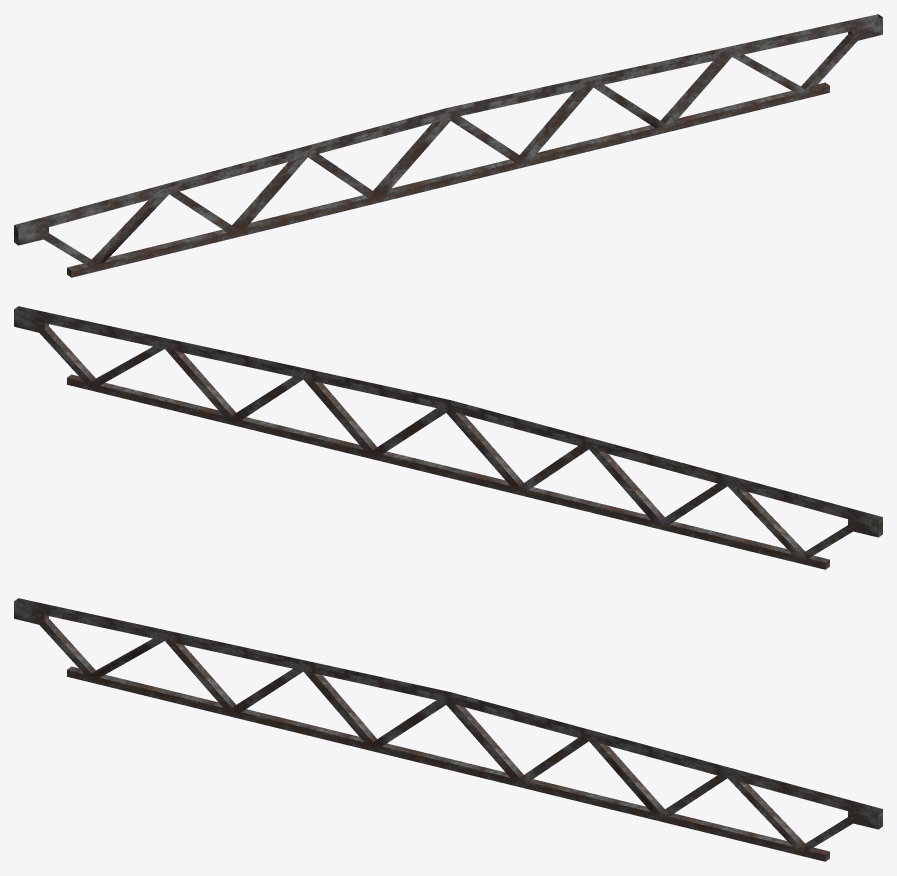
File: Factory1RoofBase02.FBX
The picture shows the model from 3 angles, top to bottom: view 1: azimuth 30°, elevation 25°; view 2: azimuth 150°, elevation 25°; view 3: azimuth 330°, elevation 25°; orthographic projection.
Parts seen in each view (by area): view 1: Factory1RoofBase02; view 2: Factory1RoofBase02; view 3: Factory1RoofBase02.
Boxes of the visible parts, x1,y1,x2,y2 form: Factory1RoofBase02: [14, 14, 882, 277]; Factory1RoofBase02: [14, 306, 882, 569]; Factory1RoofBase02: [14, 598, 882, 861].
Size of the model in its own units: 1760 by 144 by 15.72.
